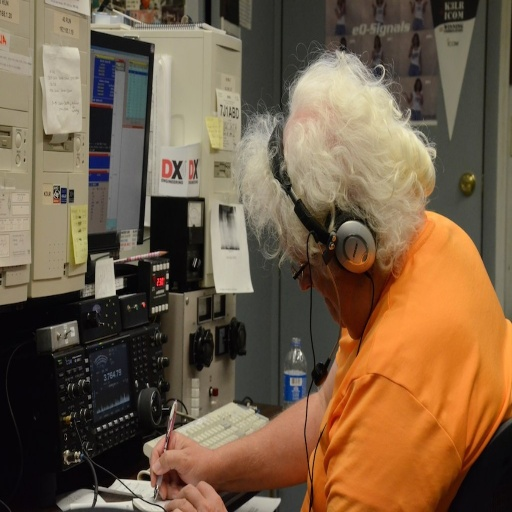hand: (130, 441, 255, 512), (160, 478, 229, 510)
